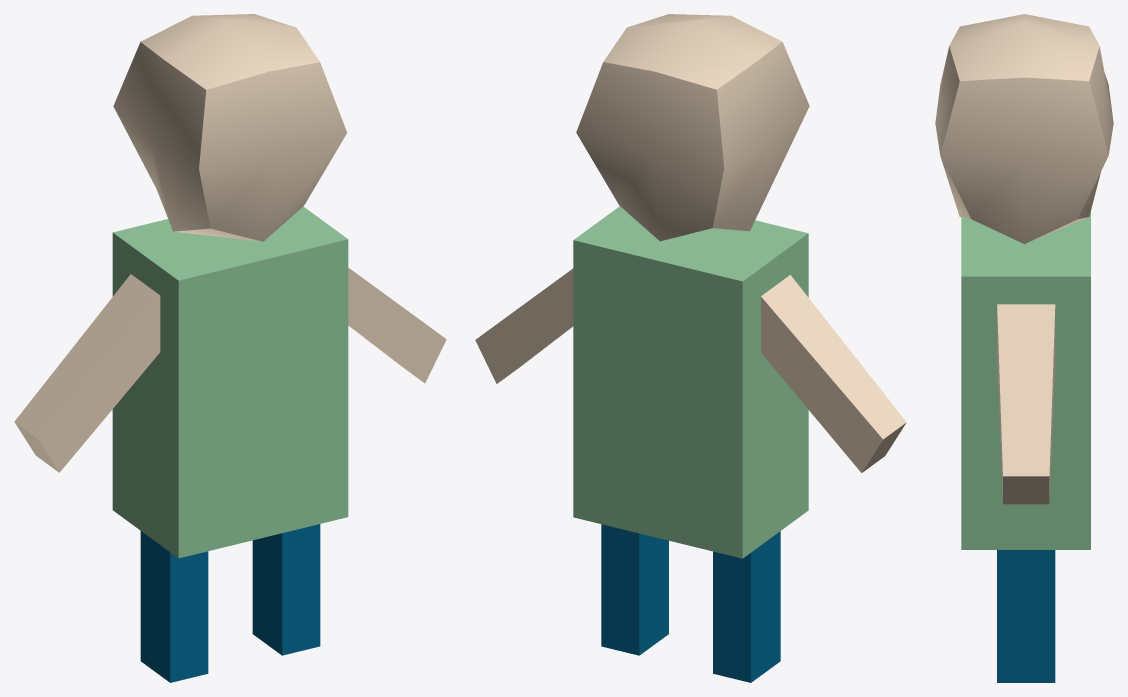
The model's file is target.fbx.
The picture shows the model from 3 angles, left to right: view 1: azimuth 30°, elevation 25°; view 2: azimuth 150°, elevation 25°; view 3: azimuth 270°, elevation 25°; orthographic projection.
Parts seen in each view (by area): view 1: polySurface6; view 2: polySurface6; view 3: polySurface6.
Part boxes in pixels (x1,y1,x2,y2): polySurface6: [14, 14, 446, 682]; polySurface6: [475, 14, 906, 682]; polySurface6: [935, 14, 1113, 682].
Size of the model in its own units: 15.4 by 22.81 by 5.92.
1 material, 1 textured.
